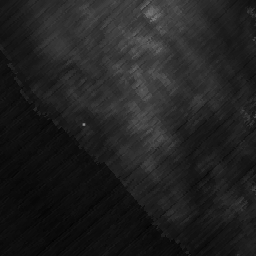Target: (80, 120, 87, 127)
